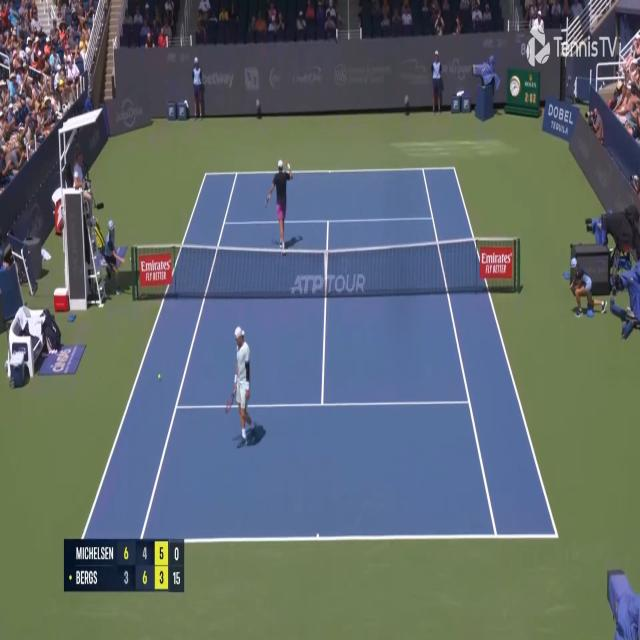tennis-player: (224, 322, 264, 448), (264, 158, 295, 252)
